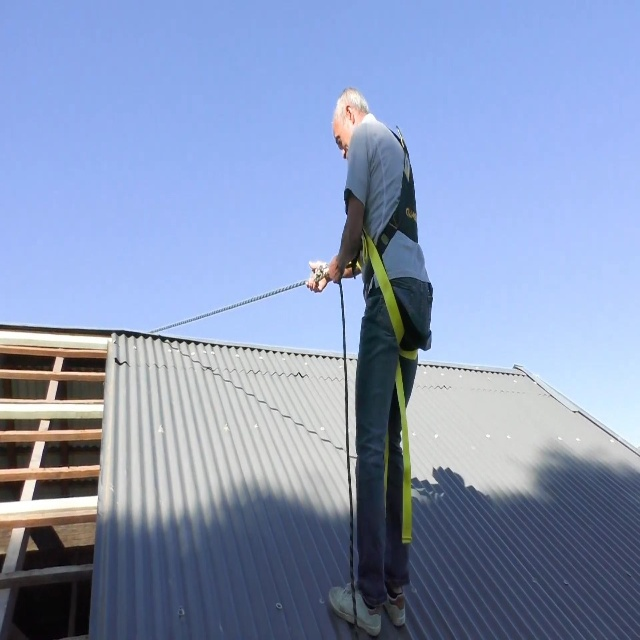Arnes_seguridad: (345, 102, 435, 379)
